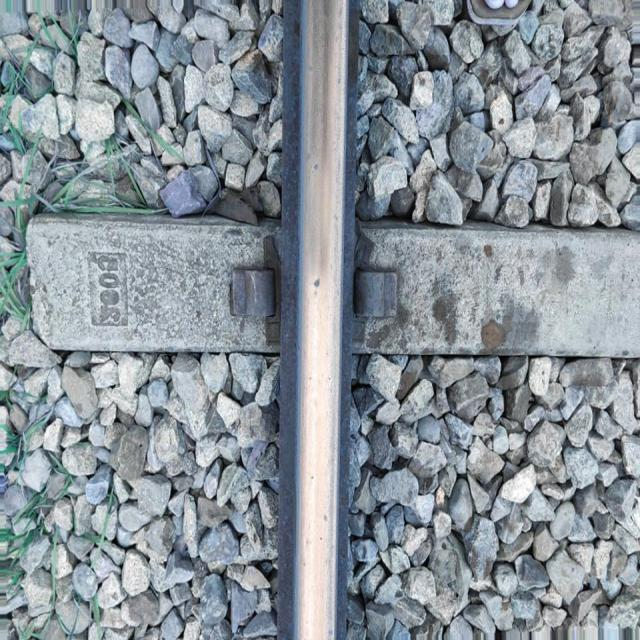Missing Fastener: (353, 250, 417, 339), (225, 254, 286, 334)
